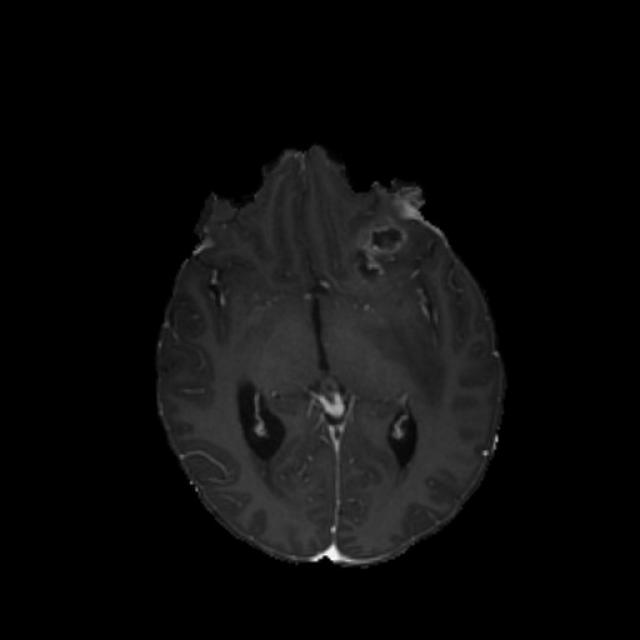negative: (364, 219, 408, 259)
